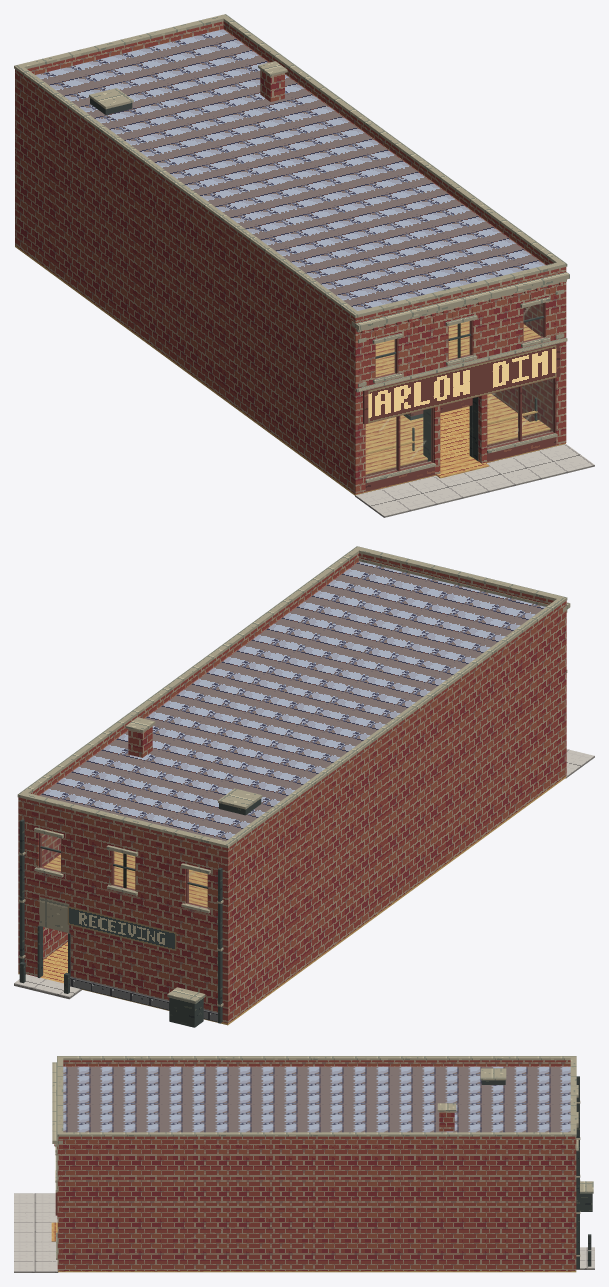
File: marlow-1925.glb
The picture shows the model from 3 angles, top to bottom: view 1: azimuth 30°, elevation 25°; view 2: azimuth 150°, elevation 25°; view 3: azimuth 270°, elevation 25°; orthographic projection. The views are drawn at different scales.
Parts seen in each view (by area): view 1: building_shell, roof_and_parapet, Shared street sidewalk, sign_name, fixed_shop_fixtures; view 2: building_shell, roof_and_parapet, sign_receiving, lot, Rear receiving pad; view 3: building_shell, roof_and_parapet, Shared street sidewalk, lot.
Boxes of the visible parts, <box> form: building_shell: <box>15,29,567,495</box>; roof_and_parapet: <box>14,14,569,333</box>; Shared street sidewalk: <box>355,444,594,517</box>; sign_name: <box>368,345,556,423</box>; fixed_shop_fixtures: <box>365,397,550,476</box>; building_shell: <box>18,561,567,1025</box>; roof_and_parapet: <box>17,546,570,858</box>; sign_receiving: <box>67,906,176,950</box>; lot: <box>19,962,205,1027</box>; Rear receiving pad: <box>14,974,81,999</box>; building_shell: <box>51,1066,580,1272</box>; roof_and_parapet: <box>52,1056,576,1146</box>; Shared street sidewalk: <box>14,1193,58,1272</box>; lot: <box>580,1181,593,1266</box>.
Size of what is drawn, in the model's own units: 10.05 by 9.06 by 31.36.
Materials: 11 (11 with a texture image).
